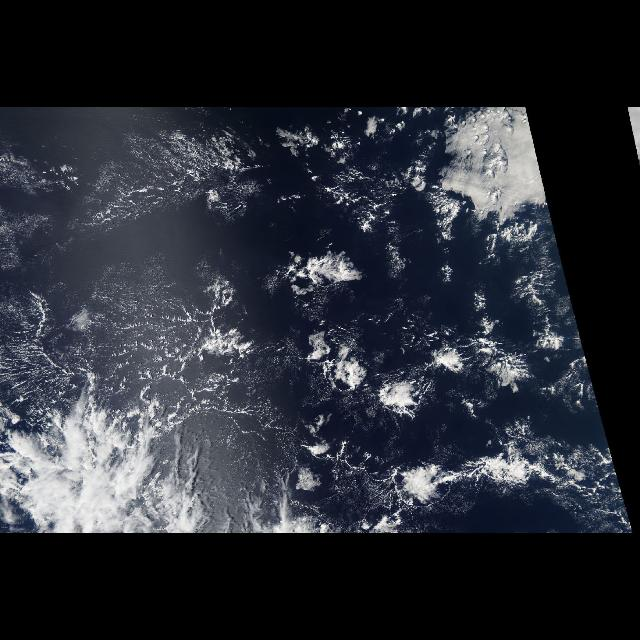Flower: (288, 314, 600, 524)
Sugar: (11, 119, 340, 463)
